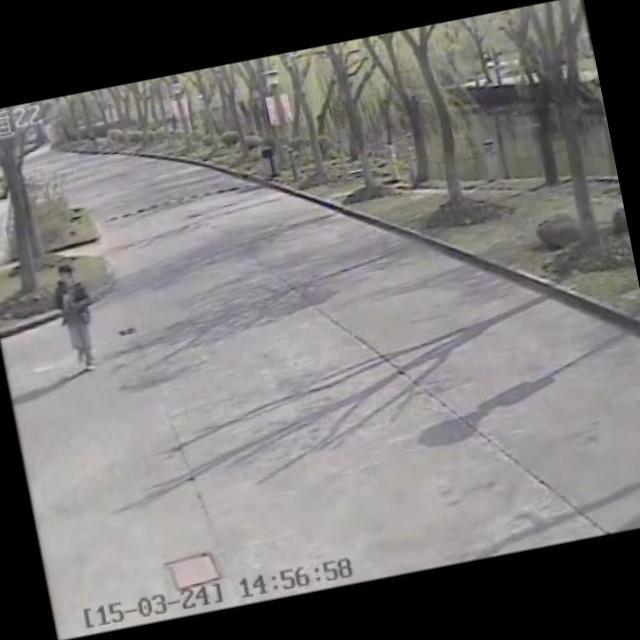person: (36, 251, 106, 384)
